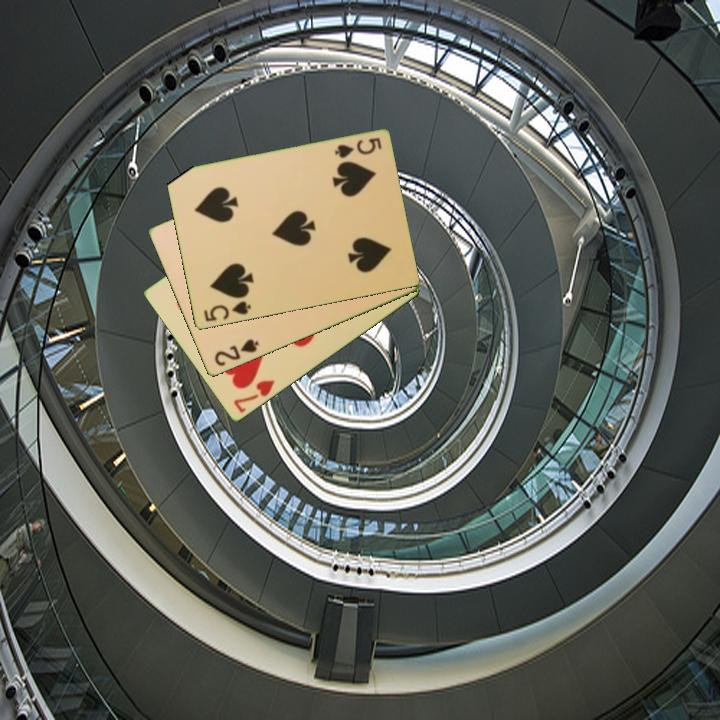2s: (211, 335, 262, 369)
5s: (200, 298, 254, 325), (331, 134, 384, 161)
7h: (230, 377, 278, 416)
